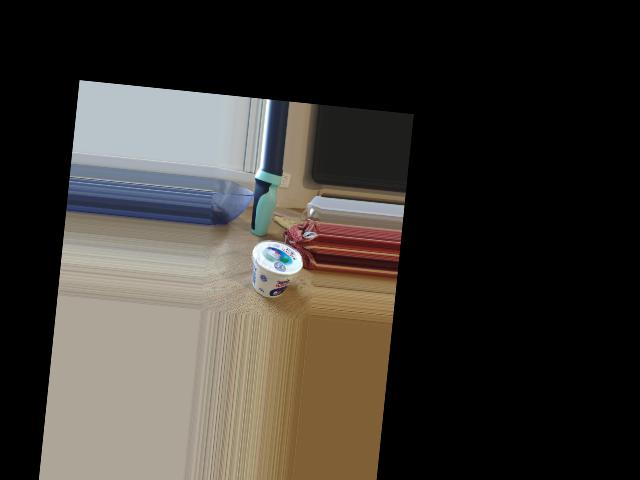cotage: (244, 234, 296, 302)
